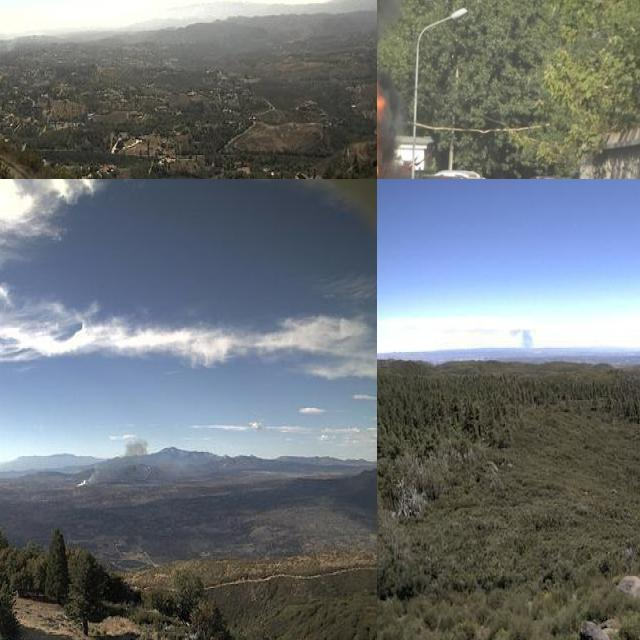smoke: (70, 432, 151, 491), (507, 326, 535, 350)
